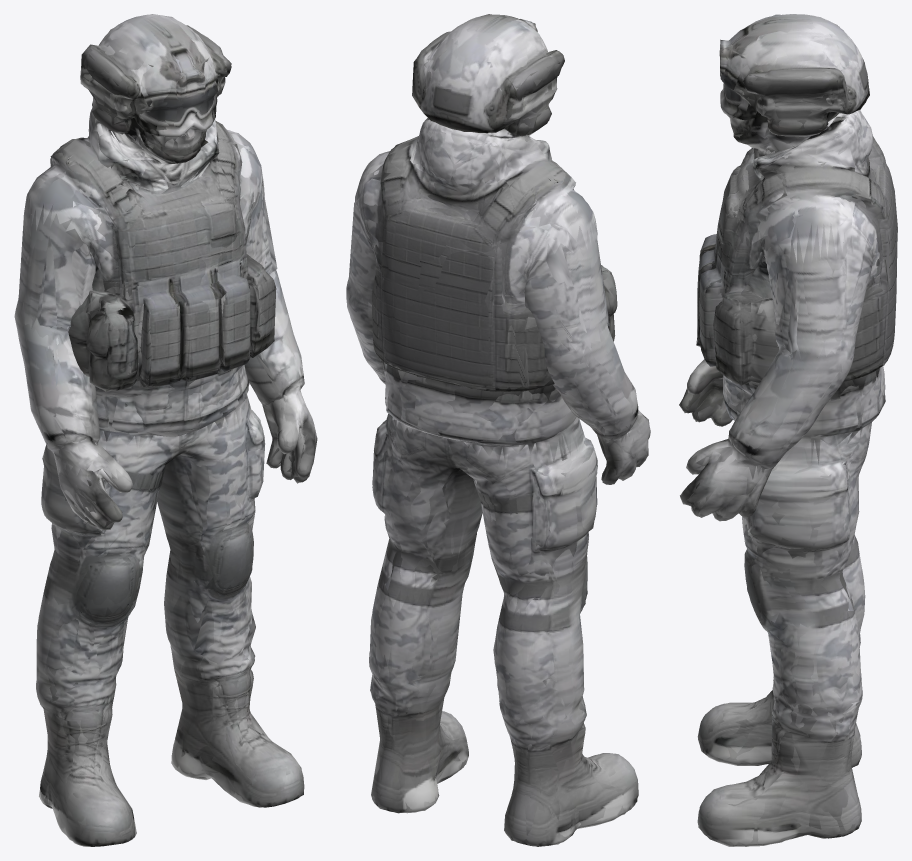
Rendered from ai_arctic.glb.
The picture shows the model from 3 angles, left to right: view 1: azimuth 30°, elevation 25°; view 2: azimuth 150°, elevation 25°; view 3: azimuth 270°, elevation 25°; orthographic projection.
Visible parts, largest first — view 1: ai_spine_arctic, LOD_ai_spine_arctic, ai_kneeL_arctic, ai_kneeR_arctic, ai_head_arctic, ai_legR_arctic, ai_legL_arctic, LOD_ai_kneeL_arctic, LOD_ai_kneeR_arctic, ai_elbowR_arctic, LOD_ai_legL_arctic, LOD_ai_head_arctic (+16 smaller); view 2: ai_spine_arctic, ai_kneeR_arctic, ai_legR_arctic, ai_head_arctic, ai_kneeL_arctic, LOD_ai_spine_arctic, ai_legL_arctic, ai_hips_arctic, LOD_ai_kneeR_arctic, LOD_ai_legR_arctic, LOD_ai_kneeL_arctic, LOD_ai_legL_arctic (+13 smaller); view 3: ai_spine_arctic, ai_kneeL_arctic, ai_legL_arctic, ai_head_arctic, LOD_ai_spine_arctic, LOD_ai_kneeL_arctic, ai_elbowL_arctic, LOD_ai_legL_arctic, LOD_ai_shoulderL_arctic, LOD_ai_head_arctic, ai_shoulderL_arctic, ai_kneeR_arctic (+10 smaller).
Part boxes in pixels (<box>): ai_spine_arctic: <box>24,121,275,387</box>; LOD_ai_spine_arctic: <box>25,120,276,388</box>; ai_kneeL_arctic: <box>164,562,304,807</box>; ai_kneeR_arctic: <box>36,585,136,846</box>; ai_head_arctic: <box>80,14,231,151</box>; ai_legR_arctic: <box>41,431,188,615</box>; ai_legL_arctic: <box>157,399,264,587</box>; LOD_ai_kneeL_arctic: <box>164,561,303,807</box>; LOD_ai_kneeR_arctic: <box>36,585,137,846</box>; ai_elbowR_arctic: <box>15,309,125,477</box>; LOD_ai_legL_arctic: <box>157,395,265,592</box>; LOD_ai_head_arctic: <box>80,14,231,151</box>; ai_spine_arctic: <box>356,148,617,390</box>; ai_kneeR_arctic: <box>494,606,638,846</box>; ai_legR_arctic: <box>451,419,597,636</box>; ai_head_arctic: <box>412,14,564,162</box>; ai_kneeL_arctic: <box>369,569,468,813</box>; LOD_ai_spine_arctic: <box>356,140,617,390</box>; ai_legL_arctic: <box>372,414,482,607</box>; ai_hips_arctic: <box>374,331,613,463</box>; LOD_ai_kneeR_arctic: <box>493,602,637,846</box>; LOD_ai_legR_arctic: <box>449,421,597,661</box>; LOD_ai_kneeL_arctic: <box>369,568,466,813</box>; LOD_ai_legL_arctic: <box>372,413,476,611</box>; ai_spine_arctic: <box>697,138,897,379</box>; ai_kneeL_arctic: <box>697,612,862,846</box>; ai_legL_arctic: <box>742,425,871,632</box>; ai_head_arctic: <box>719,14,869,151</box>; LOD_ai_spine_arctic: <box>698,136,897,380</box>; LOD_ai_kneeL_arctic: <box>698,613,861,846</box>; ai_elbowL_arctic: <box>698,340,855,475</box>; LOD_ai_legL_arctic: <box>742,425,871,637</box>; LOD_ai_shoulderL_arctic: <box>770,239,866,358</box>; LOD_ai_head_arctic: <box>720,14,869,154</box>; ai_shoulderL_arctic: <box>762,223,873,361</box>; ai_kneeR_arctic: <box>698,554,865,767</box>.
Size of the model in its own units: 0.6631 by 1.89 by 0.4844.
1 material, 1 textured.
